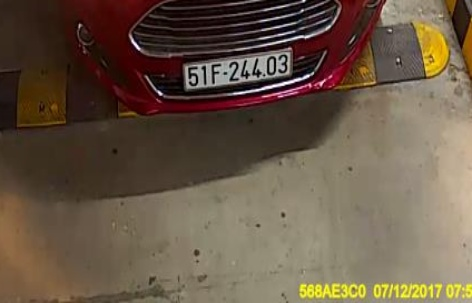plate: (180, 46, 297, 93)
